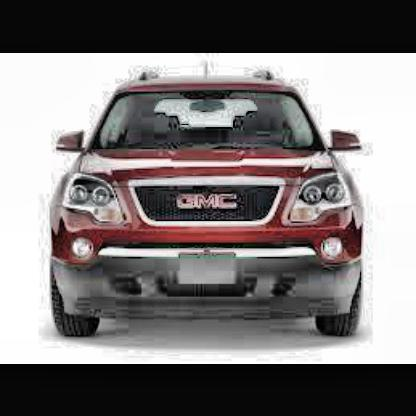GMC Acadia SUV 2012: (45, 56, 374, 345)
